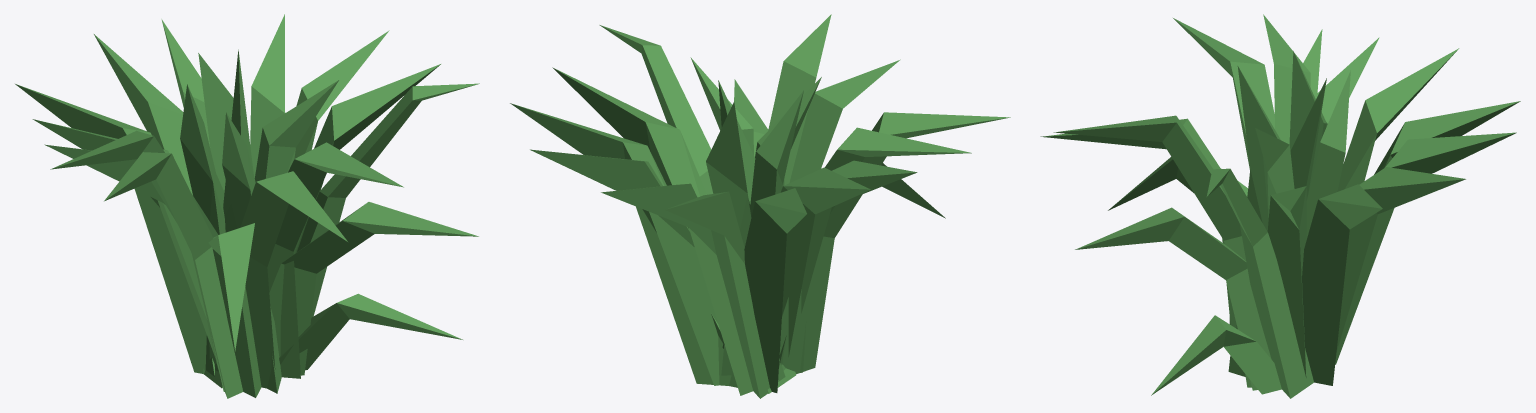
File: Grass 6.fbx
3 renders of one model, left to right at view 1: azimuth 30°, elevation 25°; view 2: azimuth 150°, elevation 25°; view 3: azimuth 270°, elevation 25°, orthographic. The views are drawn at different scales.
Visible parts, largest first — view 1: grass; view 2: grass; view 3: grass.
Boxes of the visible parts, box(x1,y1,x2,y2) form: grass: box(15, 14, 479, 398); grass: box(510, 14, 1010, 398); grass: box(1040, 14, 1520, 398).
Bounding box in the file's own units: 175 × 126 × 183.
